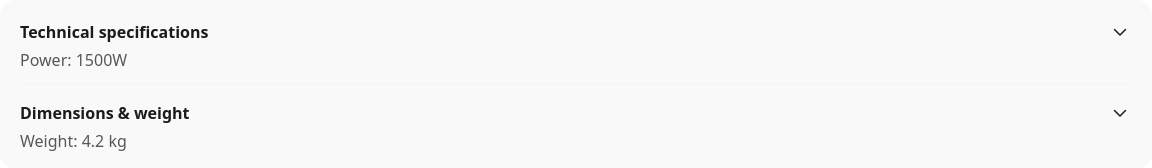
Test: Accordion › closes and reopens one section without touching the others
This screenshot has width=1152, height=168.
Click the button "Technical specifications". click: (114, 32)
box: [20,20,1132,44]
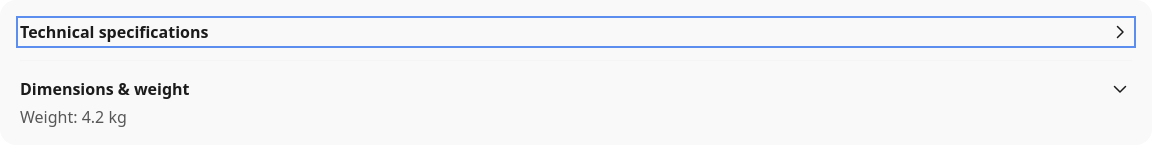
Expected: the text "Weight: 4.2 kg" is shown, [20,106,127,128]
Now the button "Technical specifications" is collapsed
Now the text "Power: 1500W" is gone
Click the button "Technical specifications". click: (114, 32)
box: [20,20,1132,44]
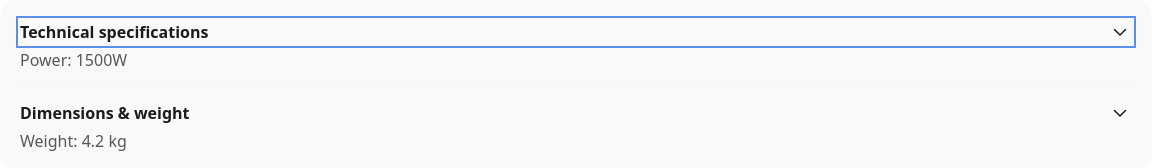
Now the button "Technical specifications" is expanded, box [20,20,1132,44]
Now the text "Power: 1500W" is shown, box [20,49,127,71]
